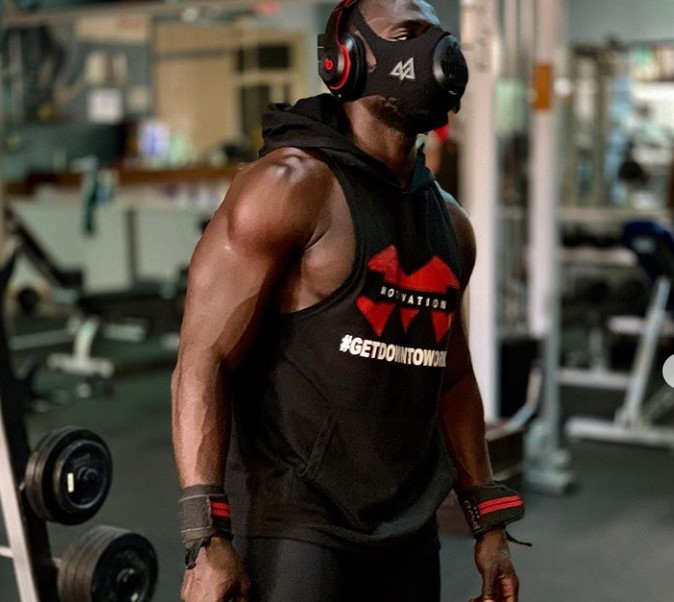face_with_mask: (316, 3, 471, 136)
